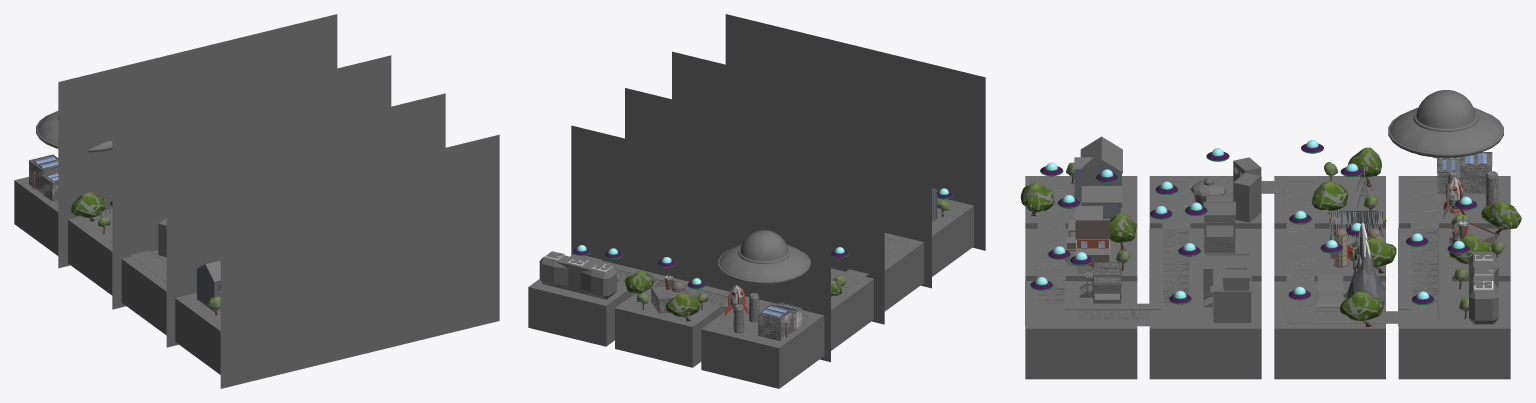
File: ec_map.glb
The picture shows the model from 3 angles, left to right: view 1: azimuth 30°, elevation 25°; view 2: azimuth 150°, elevation 25°; view 3: azimuth 270°, elevation 25°; orthographic projection. The views are drawn at different scales.
Parts seen in each view (by area): view 1: tw1, tw2, tw3, tw7, tw6, tw12, tw11, tw5, tw8, tw10, tw4, tw9 (+13 smaller); view 2: tw11, tw10, tw1, tw7, tw12, tw6, tw2, tw8, tw5, tw3, Under_11, tw9 (+19 smaller); view 3: UFO_Combined_2_18, Under_2, Under_3, Under_9, Under_8, Police_01, SuburbHouse_07, Over_9, Over_8, Over_6, Over_3, Over_11 (+38 smaller).
Boxes of the visible parts, x1,y1,x2,y2 form: tw1: (220,178,321,388); tw2: (321,155,414,364); tw3: (414,134,499,341); tw7: (112,99,212,309); tw6: (166,137,267,347); tw12: (58,57,158,268); tw11: (158,35,251,111); tw5: (267,114,360,191); tw8: (212,76,305,149); tw10: (251,14,337,89); tw4: (360,93,445,168); tw9: (306,55,391,127); tw11: (651,145,737,291); tw10: (571,125,650,272); tw1: (892,54,985,250); tw7: (791,128,884,324); tw12: (737,166,830,361); tw6: (838,92,931,288); tw2: (805,33,892,104); tw8: (704,107,790,178); tw5: (752,71,838,139); tw3: (725,14,805,83); Under_11: (701,324,824,388); tw9: (625,88,704,157); UFO_Combined_2_18: (1388,90,1503,158); Under_2: (1025,338,1137,379); Under_3: (1149,338,1261,379); Under_9: (1398,338,1510,379); Under_8: (1274,338,1385,379); Police_01: (1203,253,1251,322); SuburbHouse_07: (1074,136,1122,218); Over_9: (1398,281,1510,338); Over_8: (1274,281,1385,338); Over_6: (1274,176,1385,228); Over_3: (1149,281,1261,338); Over_11: (1398,176,1510,228).
Bounding box in the file's own units: 1.55 × 0.9581 × 2.04.
Materials: 16 (7 with a texture image).
